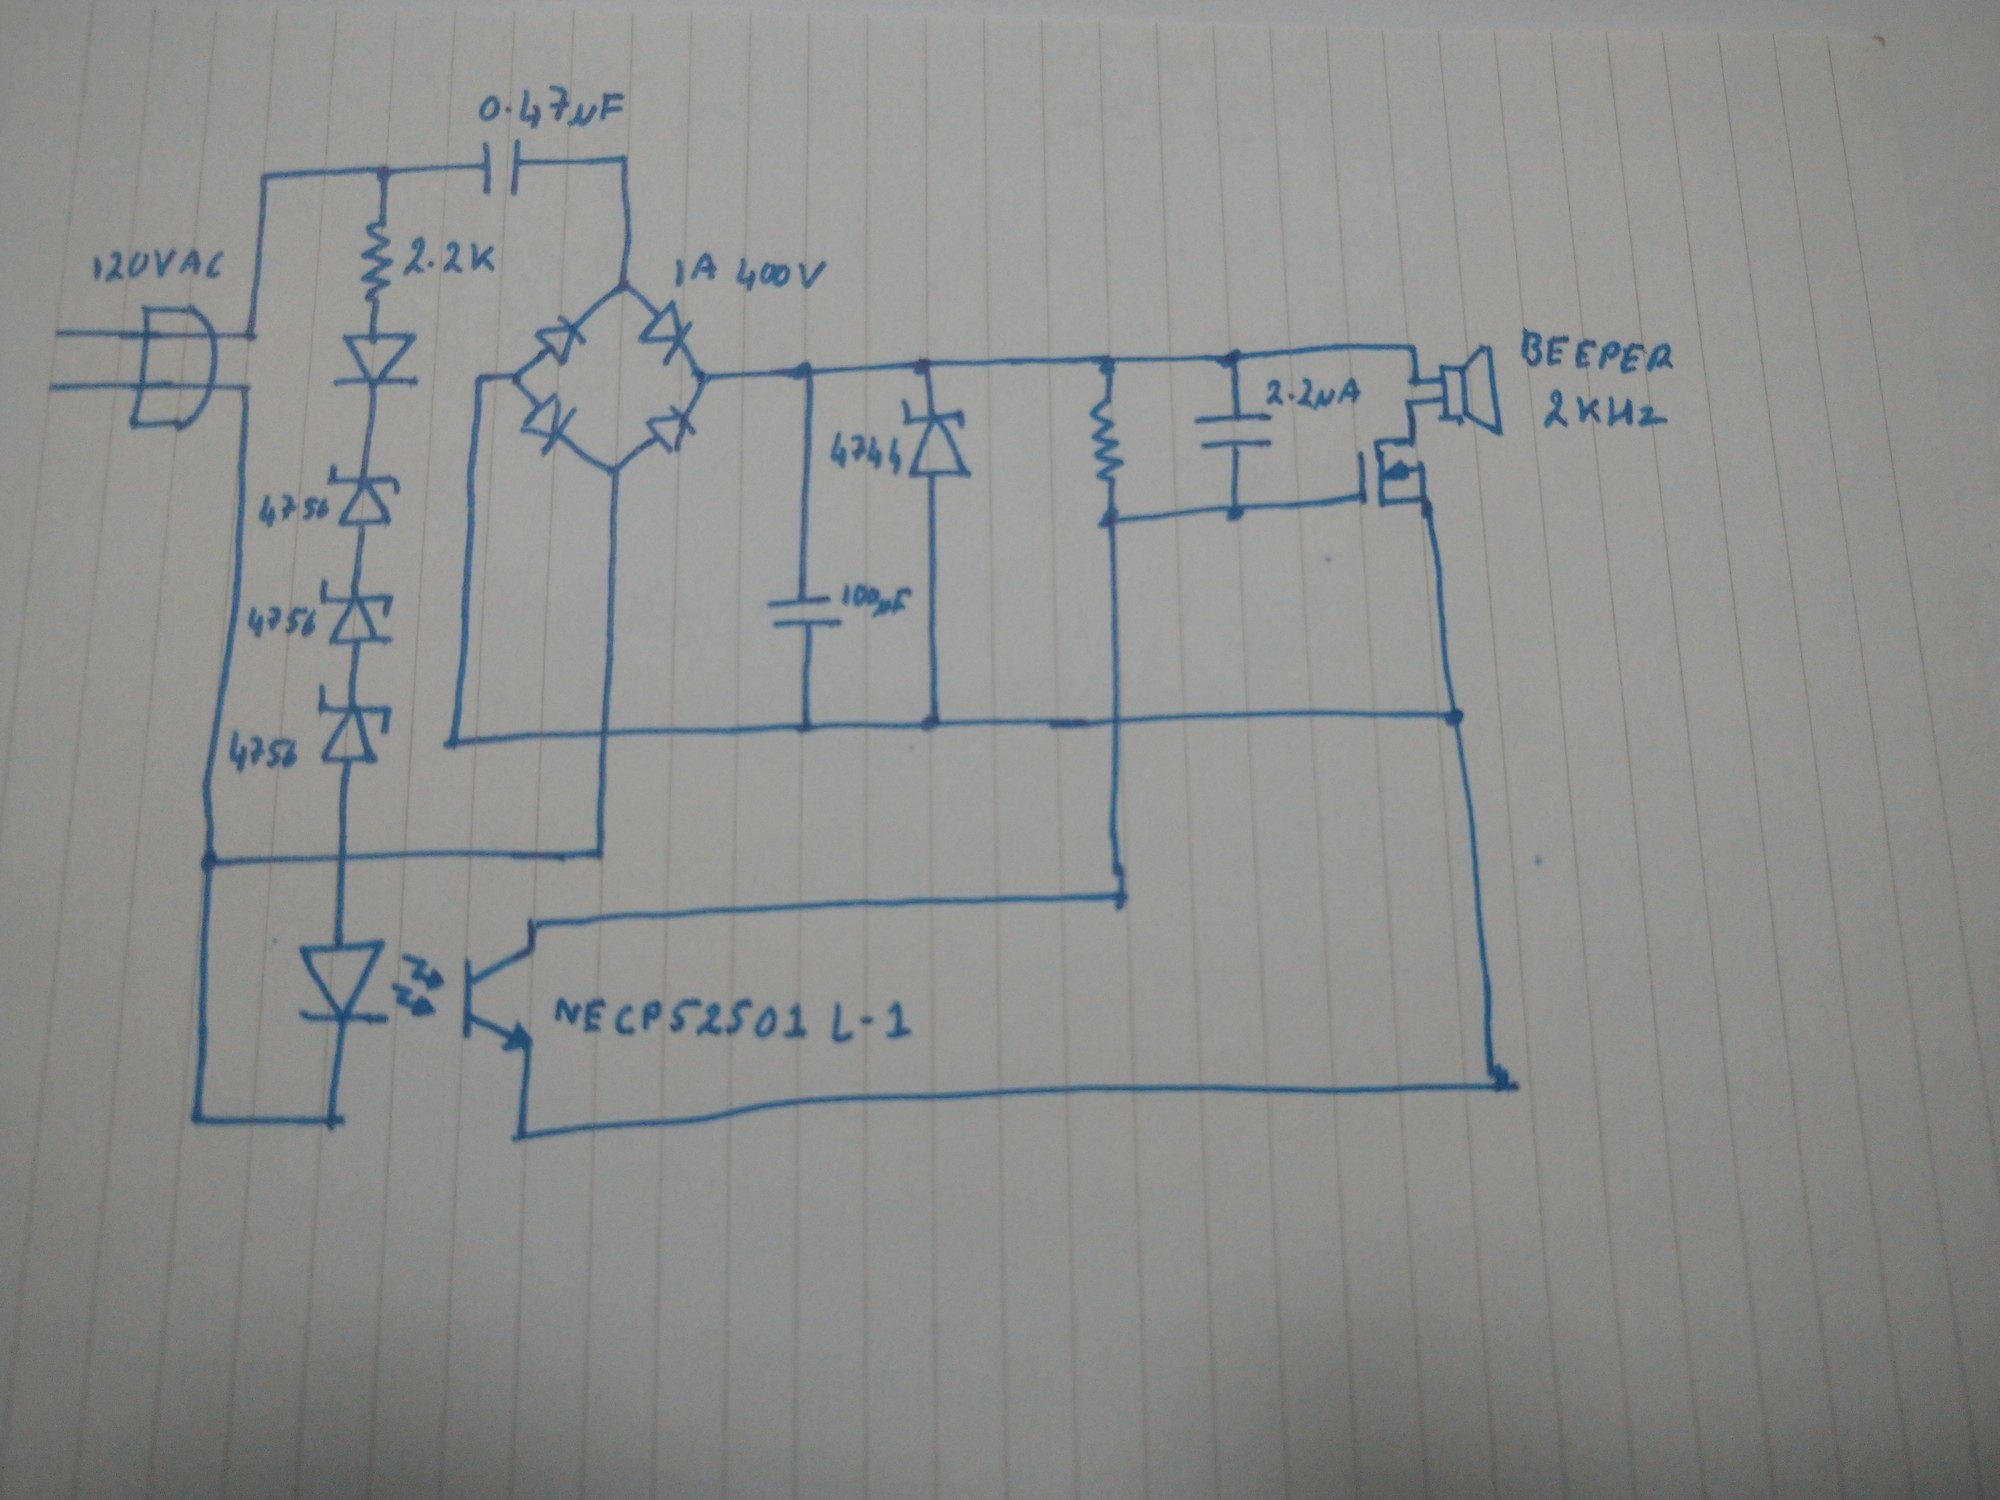capacitor.unpolarized: (466, 137, 542, 203), (762, 586, 843, 648), (1191, 405, 1279, 459)
crossover: (1096, 707, 1139, 737), (329, 846, 359, 871), (591, 722, 620, 745)
diode: (313, 681, 395, 770), (898, 395, 976, 482), (318, 575, 398, 651), (331, 329, 424, 392), (326, 463, 403, 529), (518, 391, 580, 459), (635, 298, 694, 367), (643, 402, 702, 459), (532, 314, 592, 369)
junction: (1476, 1057, 1528, 1098), (1435, 698, 1480, 733), (909, 703, 950, 741), (1090, 506, 1139, 537), (1214, 496, 1252, 529), (909, 348, 942, 384), (1090, 348, 1124, 380), (1216, 342, 1250, 373), (320, 1105, 351, 1138), (194, 848, 227, 879), (787, 358, 824, 386), (436, 726, 466, 755), (1107, 884, 1135, 912), (369, 161, 398, 187), (184, 1101, 209, 1131), (688, 366, 717, 391), (791, 714, 820, 737), (613, 274, 638, 299), (605, 455, 628, 482), (235, 321, 261, 345), (231, 375, 257, 399), (506, 1123, 532, 1145), (614, 147, 639, 169), (587, 841, 611, 863), (252, 169, 279, 187), (469, 370, 491, 392), (507, 366, 528, 388), (520, 915, 545, 933), (1403, 339, 1422, 356), (1408, 373, 1422, 389), (1403, 395, 1419, 410)
optocoupler: (291, 937, 545, 1057)
resistor: (1087, 392, 1132, 487), (356, 211, 397, 309)
socket: (128, 303, 220, 432)
speaker: (1436, 342, 1513, 440)
terminal: (38, 378, 63, 399), (43, 326, 68, 340)
text: (550, 993, 917, 1049), (1517, 326, 1679, 380), (472, 82, 630, 136), (1540, 384, 1672, 436), (85, 243, 227, 290), (398, 228, 501, 280), (732, 251, 831, 299), (827, 425, 902, 481), (1258, 373, 1365, 411), (224, 726, 302, 775), (836, 578, 917, 621), (254, 490, 332, 529), (243, 603, 320, 643), (668, 247, 723, 291)
transistor: (1351, 433, 1450, 518)
